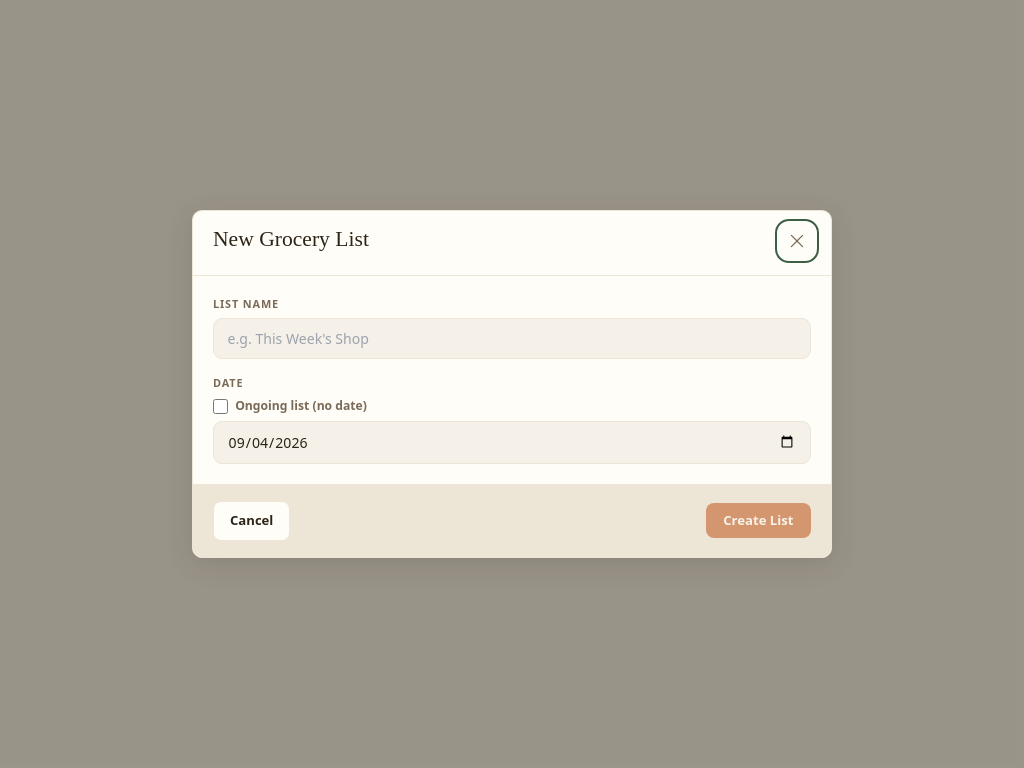
NewListModal › disables Create List while name is empty
Expected: the button named "Close create grocery list dialog" is enabled, [779, 224, 815, 260]
Expected: the button "Create List" is disabled, [706, 504, 811, 538]
Type "Weekly" into the field with placeholder "e.g. This Week's Shop" at (512, 339), box [213, 318, 811, 359]
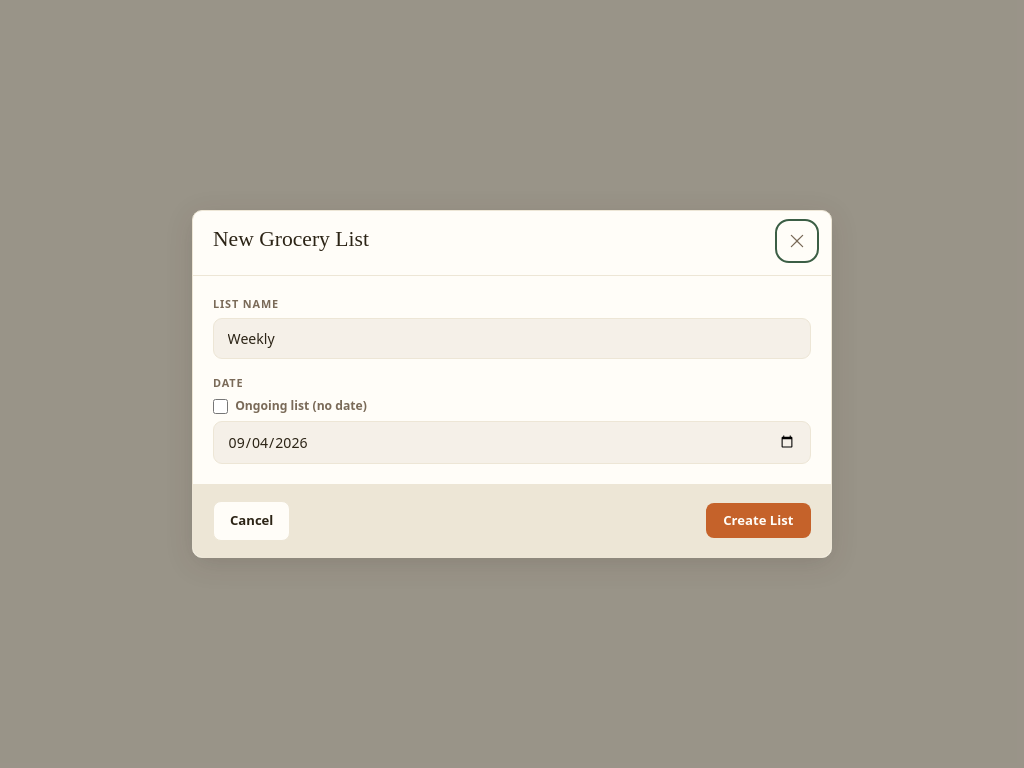
Expected: the button "Create List" is enabled, [706, 504, 811, 538]
